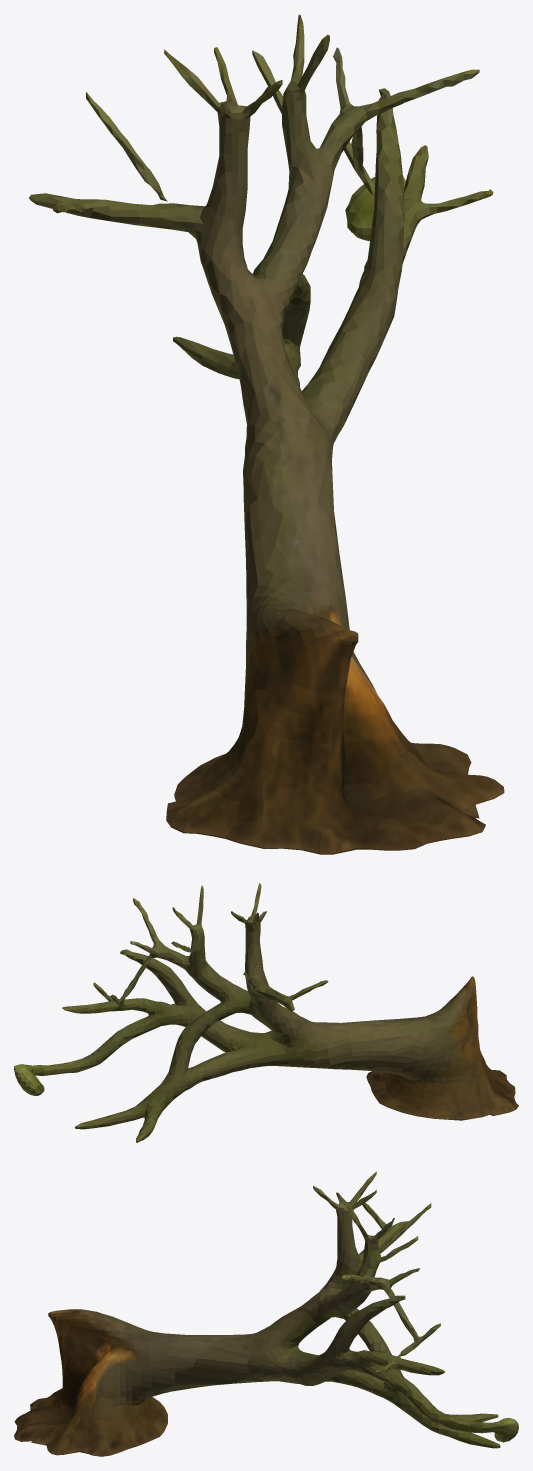
3 views of the same model, one above another, from view 1: azimuth 30°, elevation 25°; view 2: azimuth 150°, elevation 25°; view 3: azimuth 270°, elevation 25° (orthographic). The views are drawn at different scales.
Visible parts, largest first — view 1: texture_pbr_v128; view 2: texture_pbr_v128; view 3: texture_pbr_v128.
Part boxes in pixels (bbox=[...]): texture_pbr_v128: bbox=[29, 14, 504, 854]; texture_pbr_v128: bbox=[14, 883, 518, 1142]; texture_pbr_v128: bbox=[14, 1171, 518, 1456].
Bounding box in the file's own units: 0.7253 × 0.5911 × 0.9787.
Materials: 1 (1 with a texture image).
